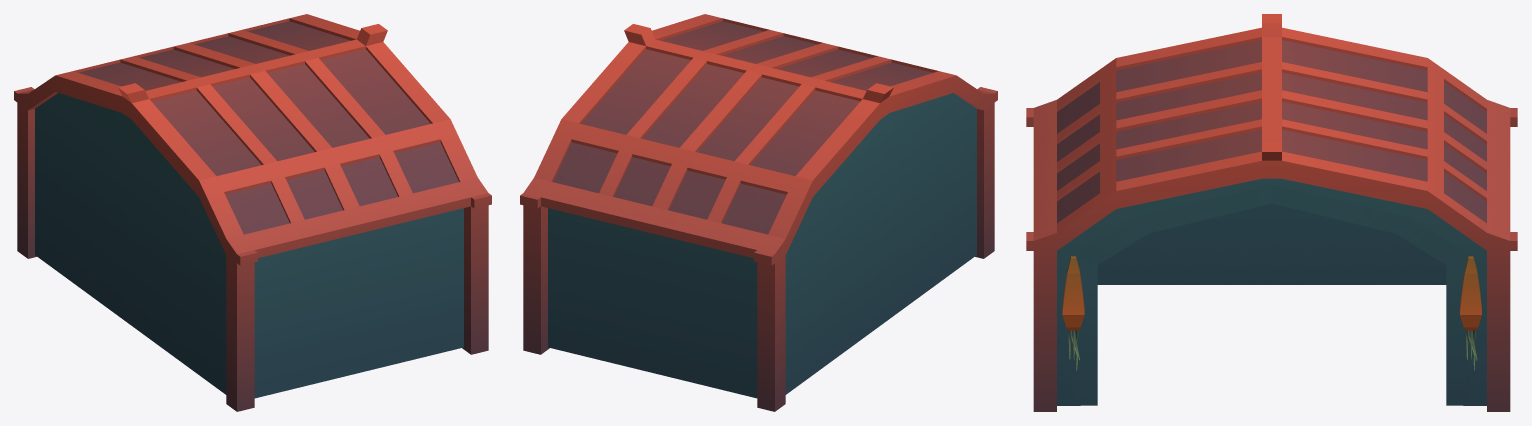
Rendered from ItemProps_TriggerHouse.fbx.
3 renders of one model, left to right at view 1: azimuth 30°, elevation 25°; view 2: azimuth 150°, elevation 25°; view 3: azimuth 270°, elevation 25°, orthographic. The views are drawn at different scales.
Visible parts, largest first — view 1: Cube.023, Cube.024; view 2: Cube.023, Cube.024; view 3: Cube.023, Cube.024, Cube.007, Cube.005.
Part boxes in pixels (x1,y1,x2,y2): Cube.023: [14, 14, 491, 411]; Cube.024: [35, 93, 463, 398]; Cube.023: [520, 14, 997, 411]; Cube.024: [548, 93, 976, 398]; Cube.023: [1026, 14, 1517, 411]; Cube.024: [1057, 178, 1486, 405]; Cube.007: [1062, 256, 1084, 370]; Cube.005: [1460, 256, 1481, 370].
Bounding box in the file's own units: 718 × 637 × 1080.
